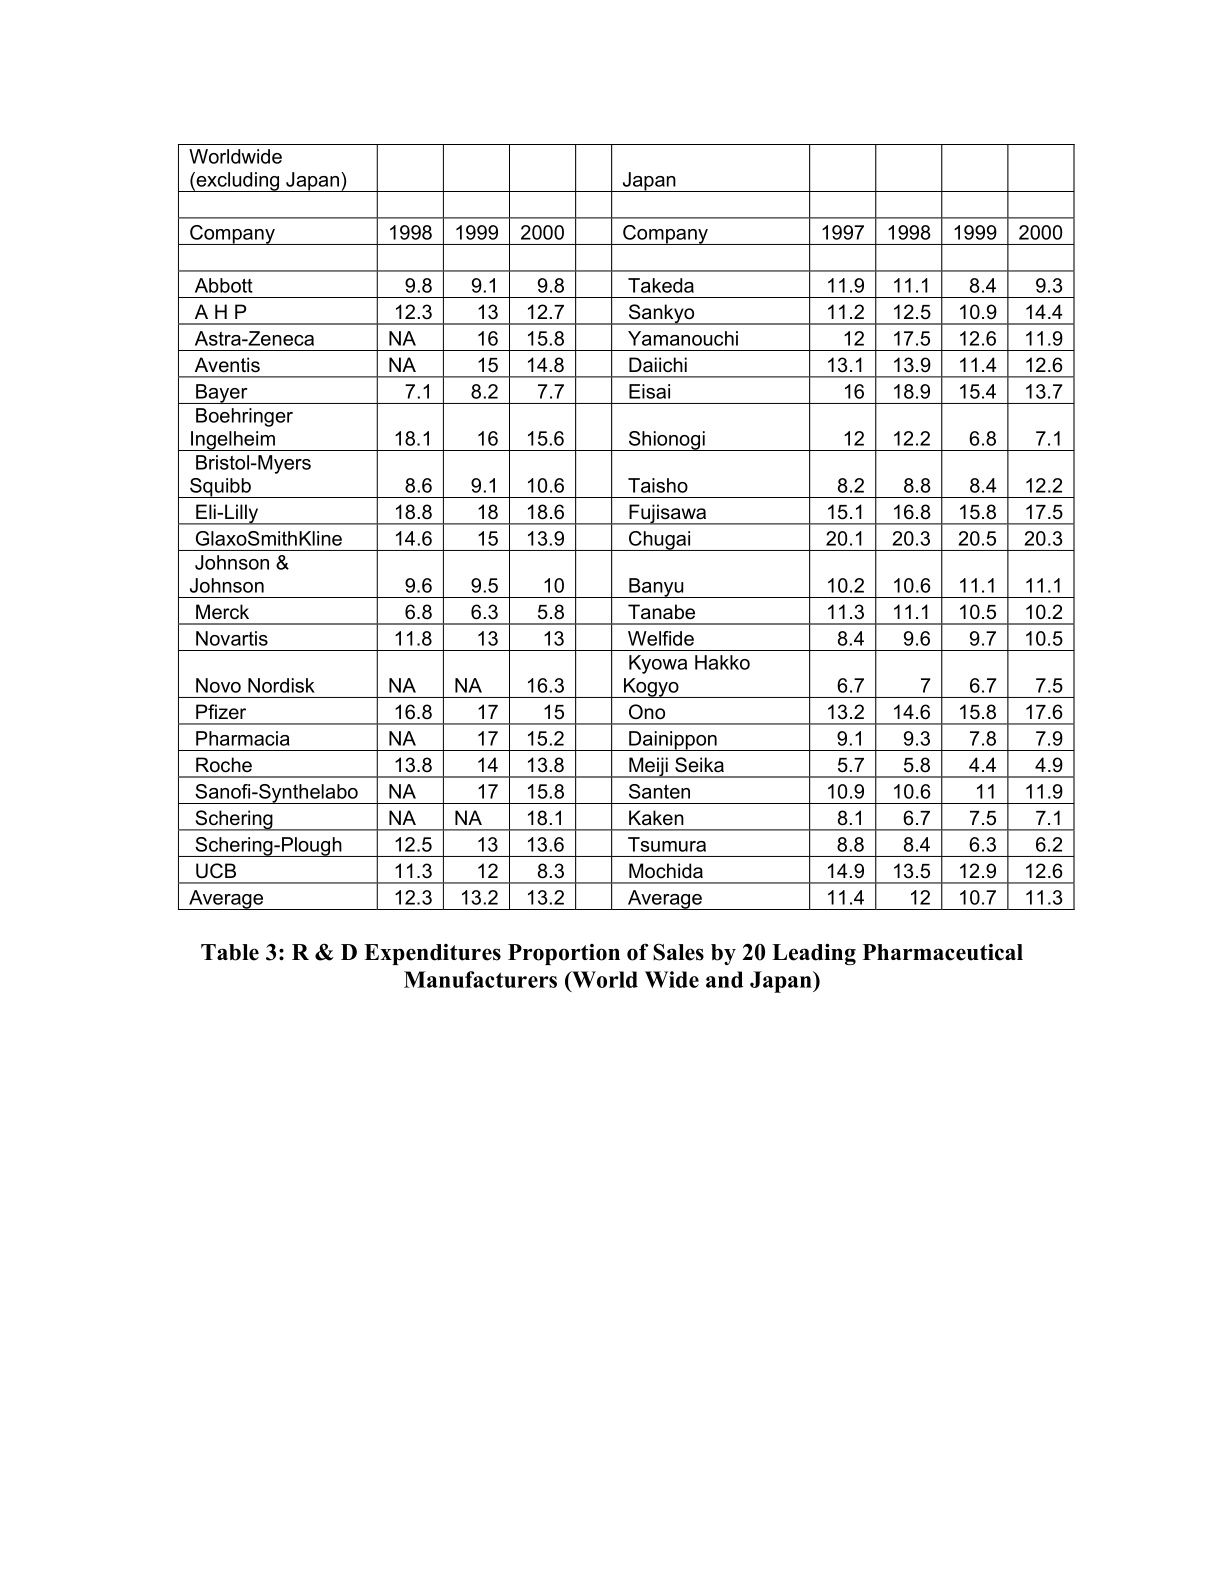full_lined: (177, 144, 1075, 910)
